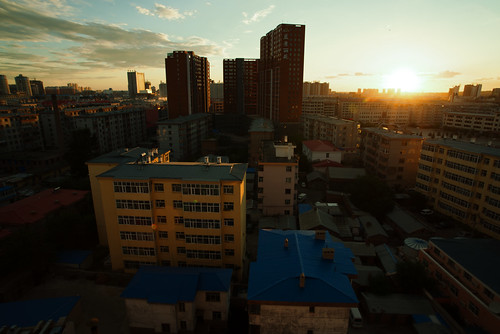building: (99, 153, 247, 278), (245, 231, 352, 334), (117, 265, 236, 334), (418, 141, 500, 233), (258, 26, 305, 132), (163, 48, 214, 119), (78, 104, 145, 156), (360, 125, 416, 187), (224, 57, 268, 120), (441, 95, 500, 133), (159, 118, 211, 160)
sky: (5, 1, 500, 73)
